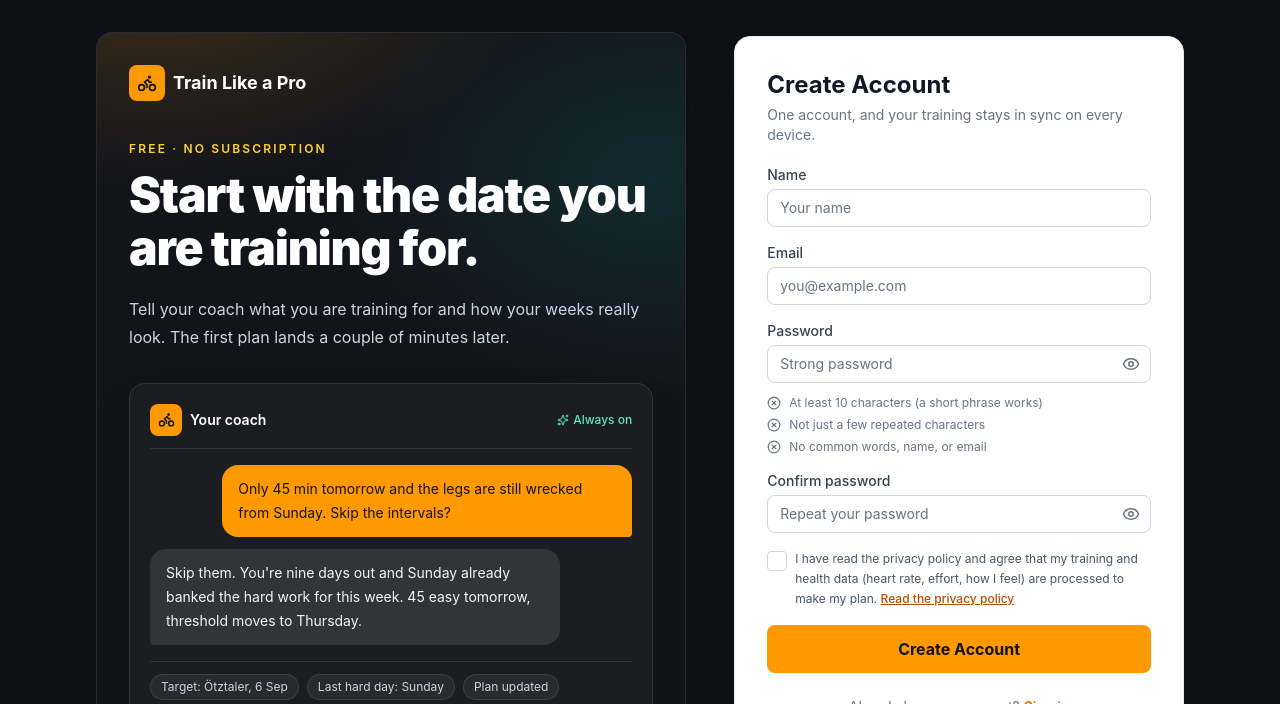
Test: RegisterPage › shows an error message when registration fails
In the field with placeholder "Your name": (959, 208) top-left (767, 189), bottom-right (1151, 227), type "Alice"
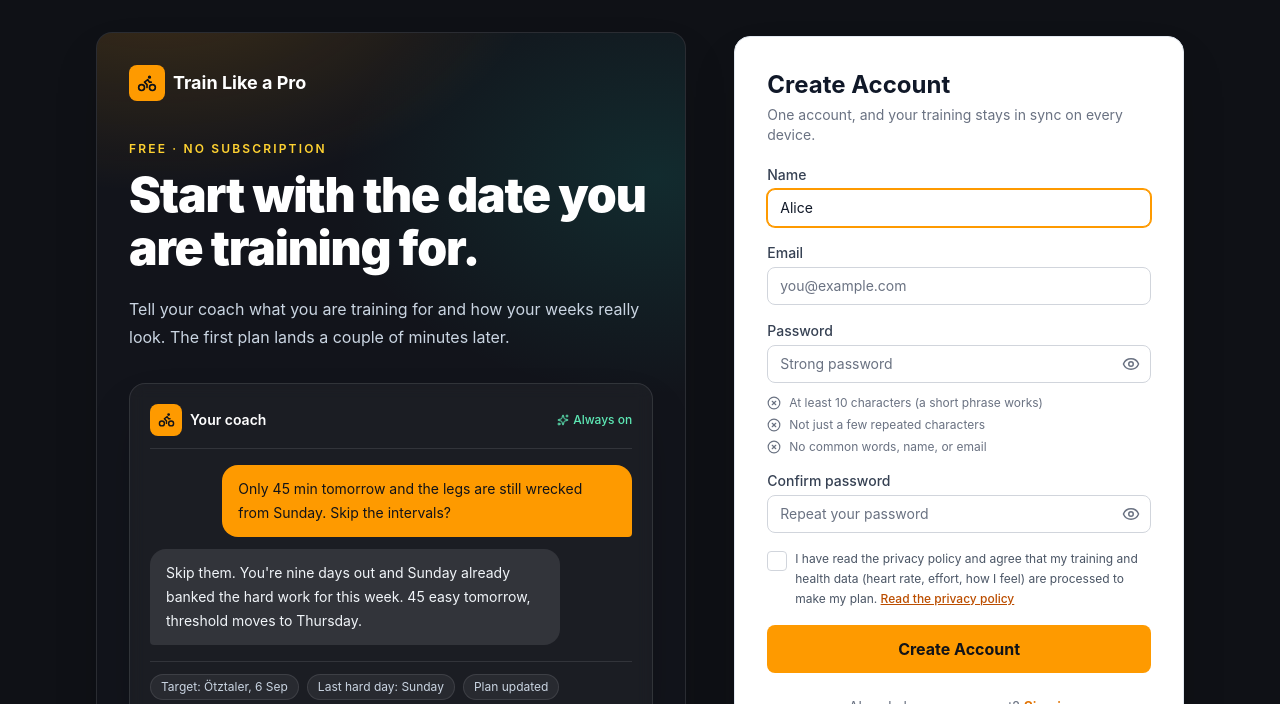
In the field with placeholder "you@example.com": (959, 286) top-left (767, 267), bottom-right (1151, 305), type "alice@example.com"
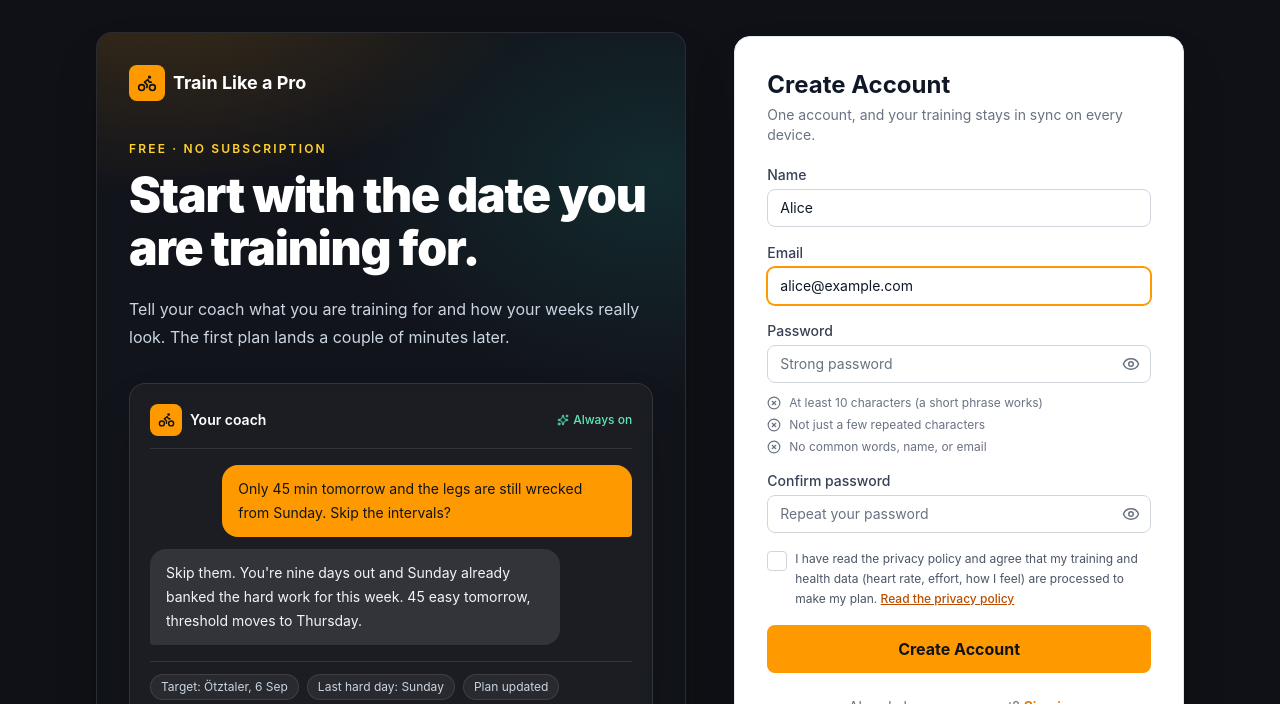
In the password field with placeholder "Strong password": (959, 364) top-left (767, 345), bottom-right (1151, 383), type "Secur3!Pass"
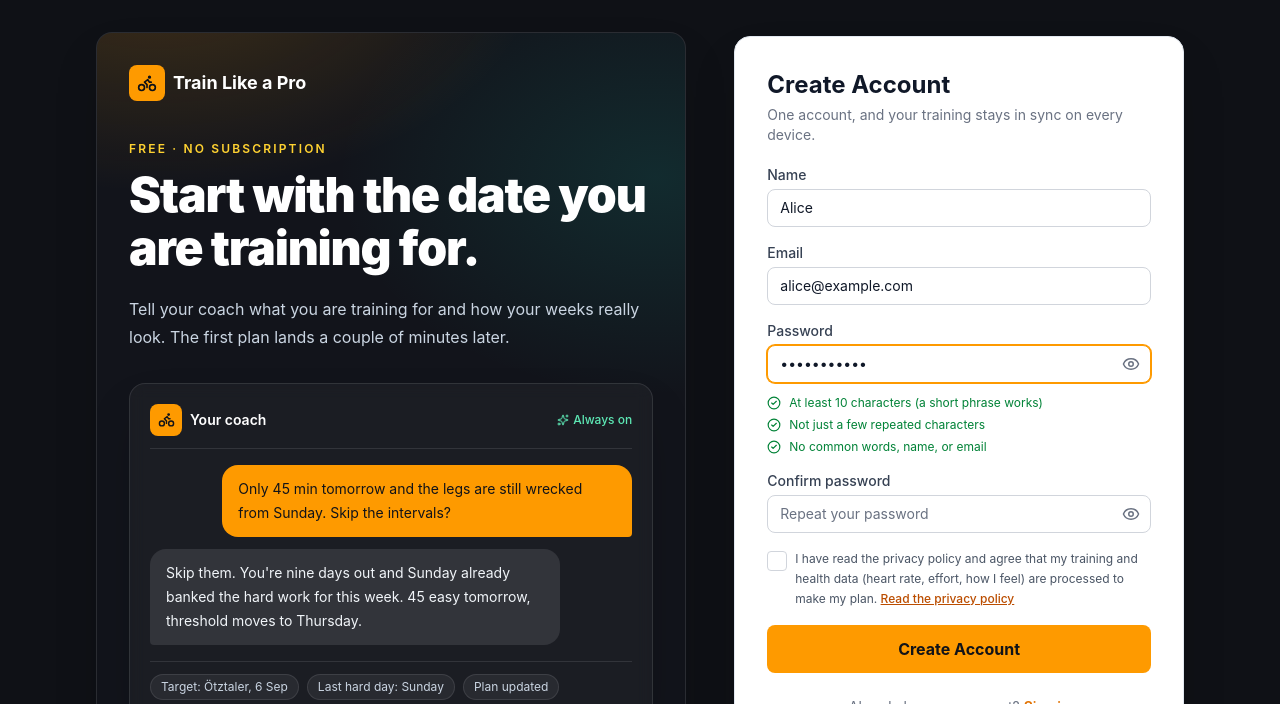
In the password field with placeholder "Repeat your password": (959, 514) top-left (767, 495), bottom-right (1151, 533), type "Secur3!Pass"
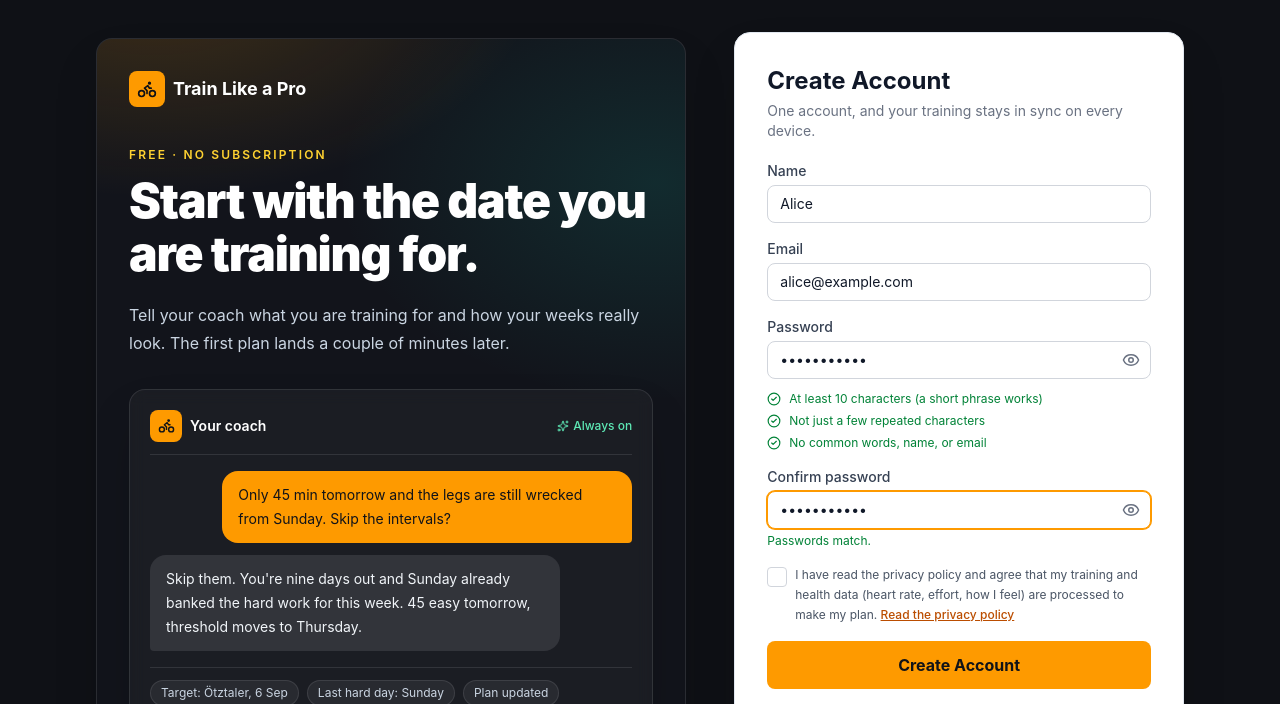
Click the checkbox labelled "privacy policy": (777, 577) top-left (767, 567), bottom-right (787, 587)
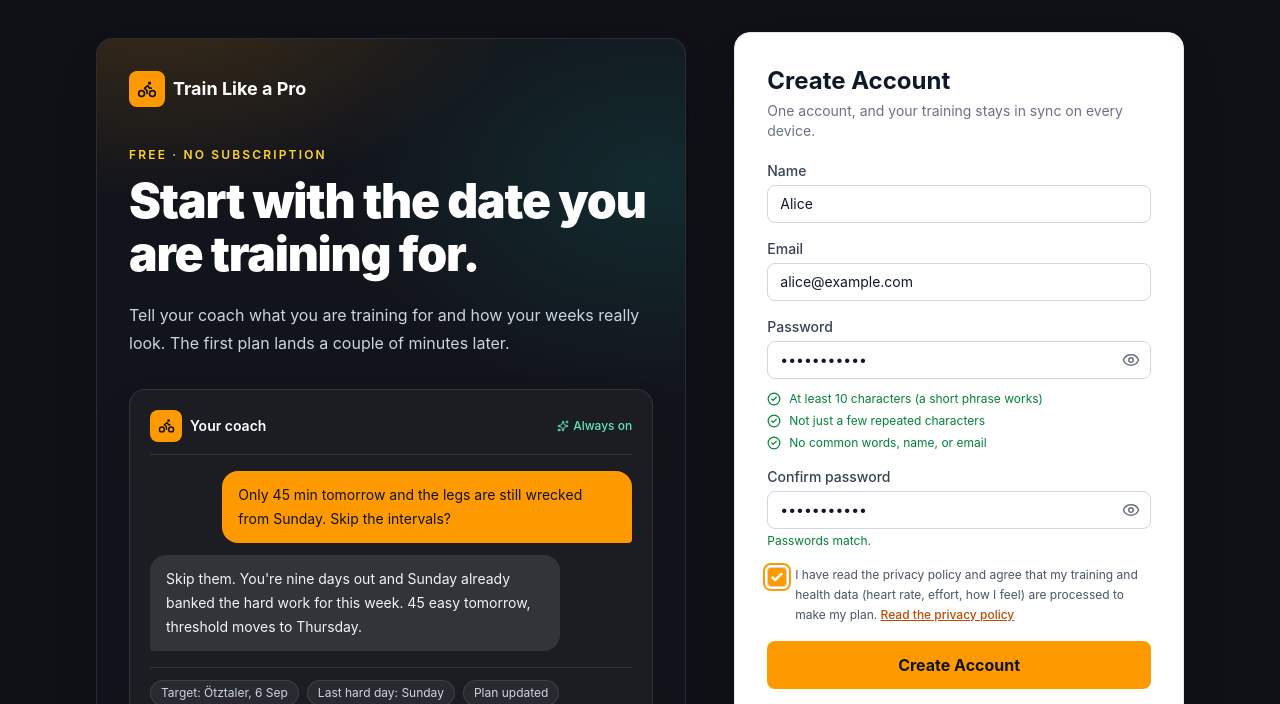
Click the button "Create Account": (959, 665) top-left (767, 641), bottom-right (1151, 689)
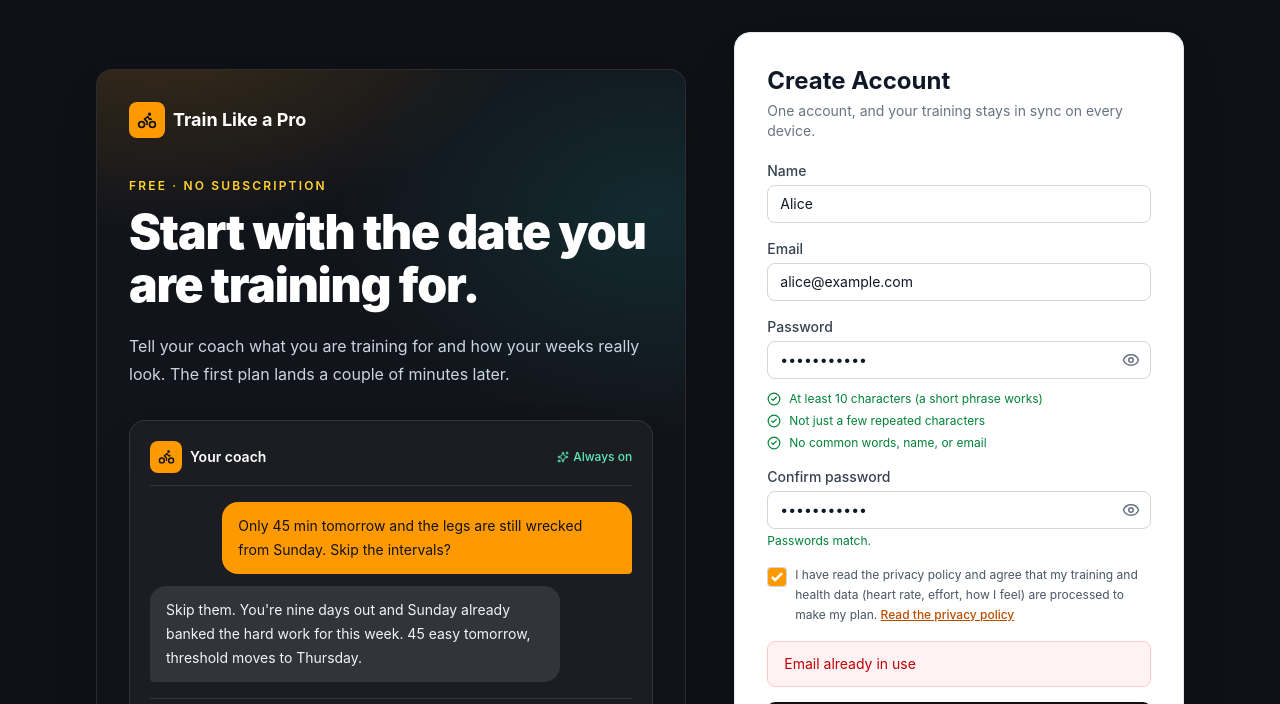
expect the text "Email already in use" is shown: met, box top-left (767, 641), bottom-right (1151, 687)
